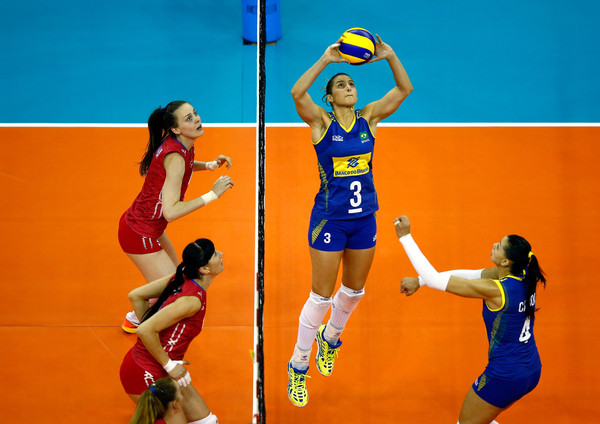volleyball: (337, 26, 375, 65)
